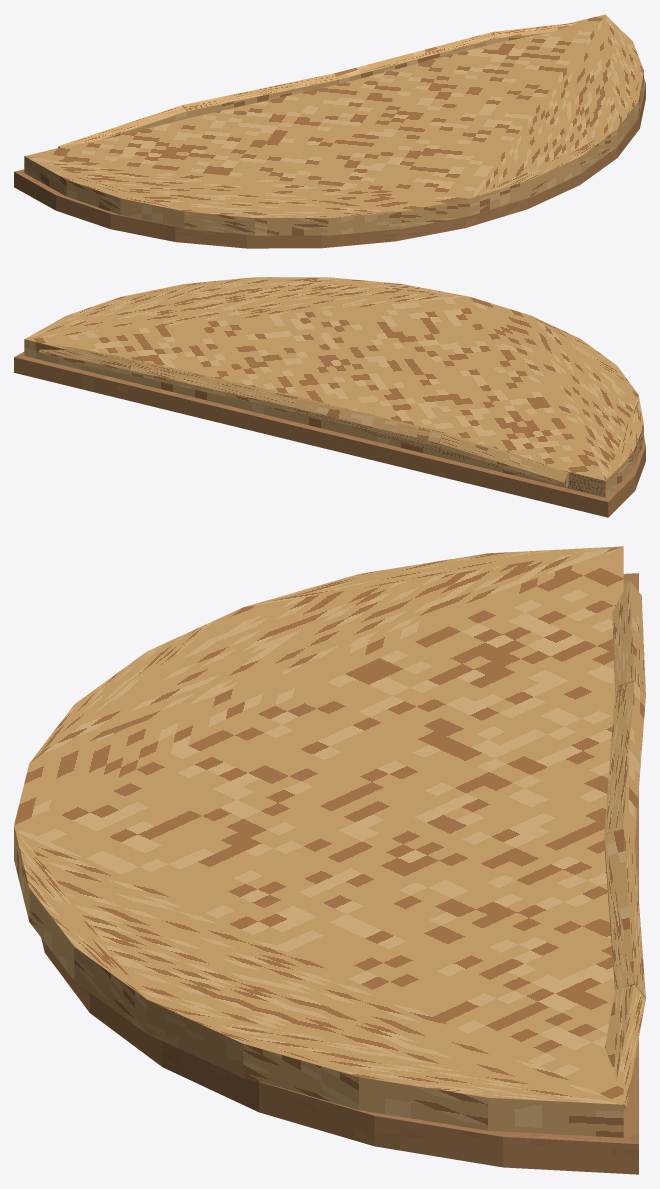
The model's file is crepe_plain.glb.
The picture shows the model from 3 angles, top to bottom: view 1: azimuth 30°, elevation 25°; view 2: azimuth 150°, elevation 25°; view 3: azimuth 270°, elevation 25°; orthographic projection. The views are drawn at different scales.
Visible parts, largest first — view 1: block_thin folded upper crepe layer, block_thin folded lower crepe layer, block_soft rolled crepe crease 1, block_soft rolled crepe crease 2, block_soft rolled crepe crease 0, block_soft rolled crepe crease 3; view 2: block_thin folded upper crepe layer, block_thin folded lower crepe layer, block_soft rolled crepe crease 2, block_soft rolled crepe crease 1, block_soft rolled crepe crease 0, block_soft rolled crepe crease 3; view 3: block_thin folded upper crepe layer, block_thin folded lower crepe layer, block_soft rolled crepe crease 2, block_soft rolled crepe crease 1, block_soft rolled crepe crease 0, block_soft rolled crepe crease 3.
Part boxes in pixels (x1,y1,x2,y2): block_thin folded upper crepe layer: (24,14,643,235); block_thin folded lower crepe layer: (14,78,645,248); block_soft rolled crepe crease 1: (182,73,338,118); block_soft rolled crepe crease 2: (334,32,496,84); block_soft rolled crepe crease 0: (58,105,187,147); block_soft rolled crepe crease 3: (492,22,579,42); block_thin folded upper crepe layer: (24,277,643,497); block_thin folded lower crepe layer: (14,352,645,517); block_soft rolled crepe crease 2: (130,360,300,412); block_soft rolled crepe crease 1: (293,397,446,447); block_soft rolled crepe crease 0: (439,433,569,487); block_soft rolled crepe crease 3: (39,344,136,375); block_thin folded upper crepe layer: (14,546,623,1137); block_thin folded lower crepe layer: (41,573,638,1174); block_soft rolled crepe crease 2: (604,829,645,998); block_soft rolled crepe crease 1: (604,681,645,842); block_soft rolled crepe crease 0: (612,580,645,695); block_soft rolled crepe crease 3: (605,984,645,1109).
Size of the model in its own units: 0.143 by 0.00972 by 0.0669.
Materials: 1 (1 with a texture image).
